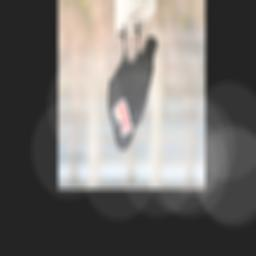Crow: (107, 18, 158, 151)
